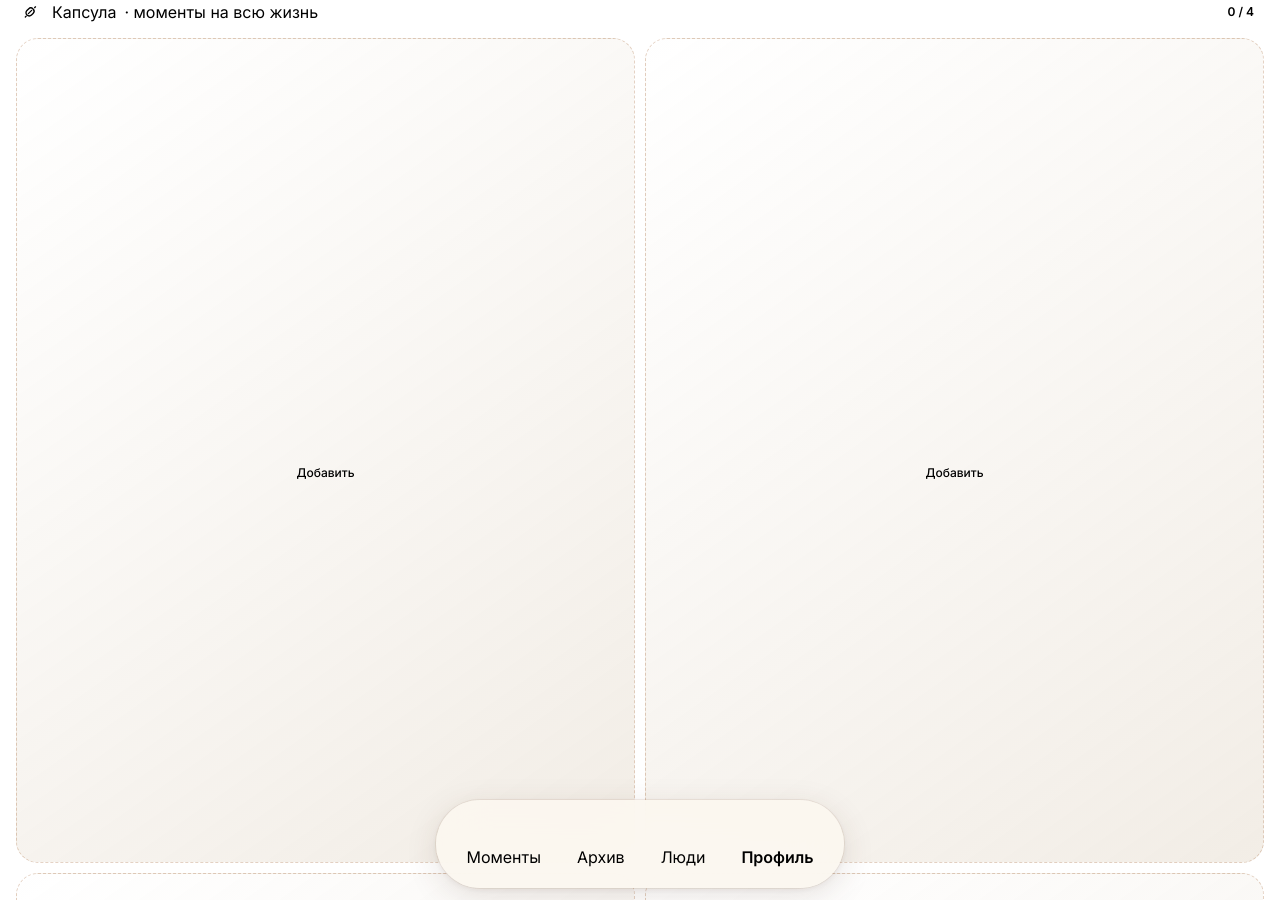
Test: Profile › shows the create moment action in PickMomentSheet
The image size is (1280, 900).
(page scrolled)
Click the 1st button "Добавить".
click(53, 451)  # box x1=16 y1=38 x2=635 y2=863
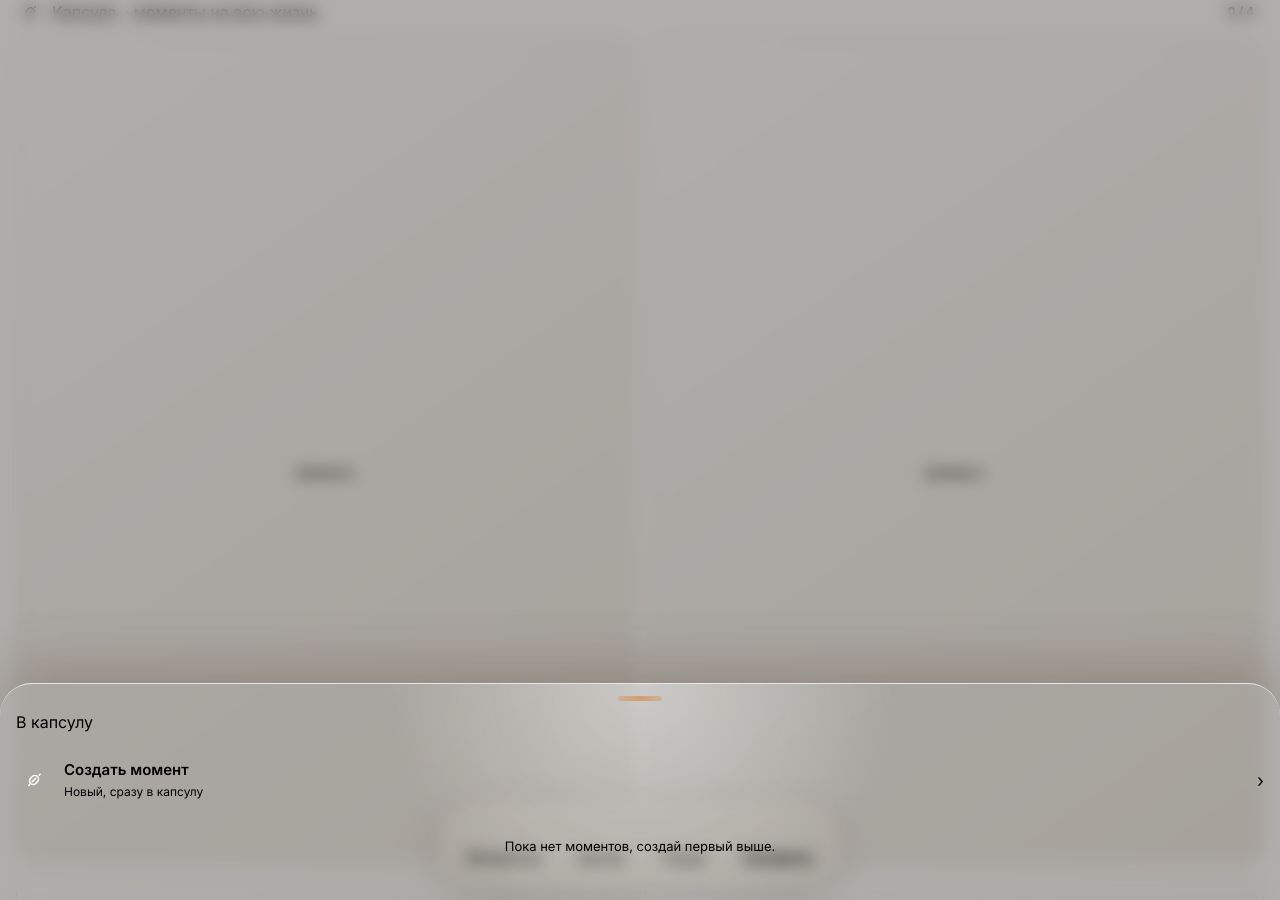
Now the text "Создать момент" is shown, box x1=64 y1=760 x2=189 y2=779
